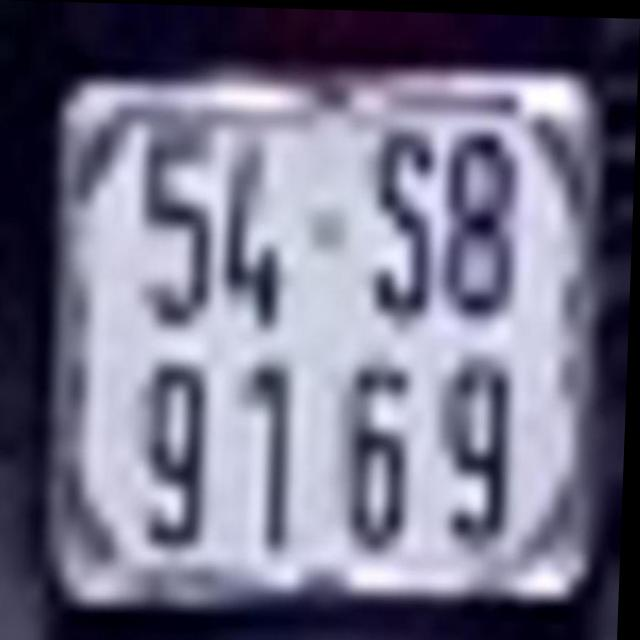1: (241, 360, 296, 548)
4: (224, 125, 295, 329)
5: (134, 122, 224, 330)
6: (344, 354, 417, 559)
8: (443, 120, 527, 321)
9: (429, 341, 525, 560), (133, 353, 217, 558)
S: (361, 120, 441, 322)
